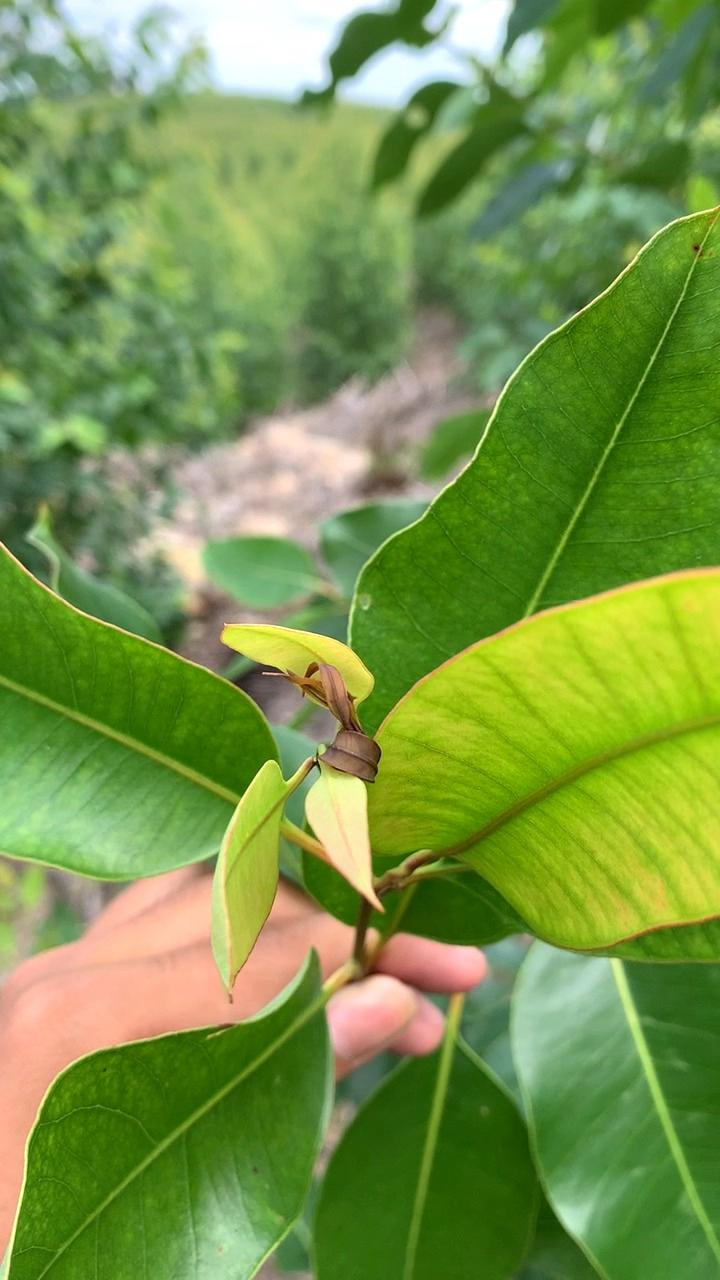Helopeltis-Withered Sprout: (243, 638, 439, 823)
